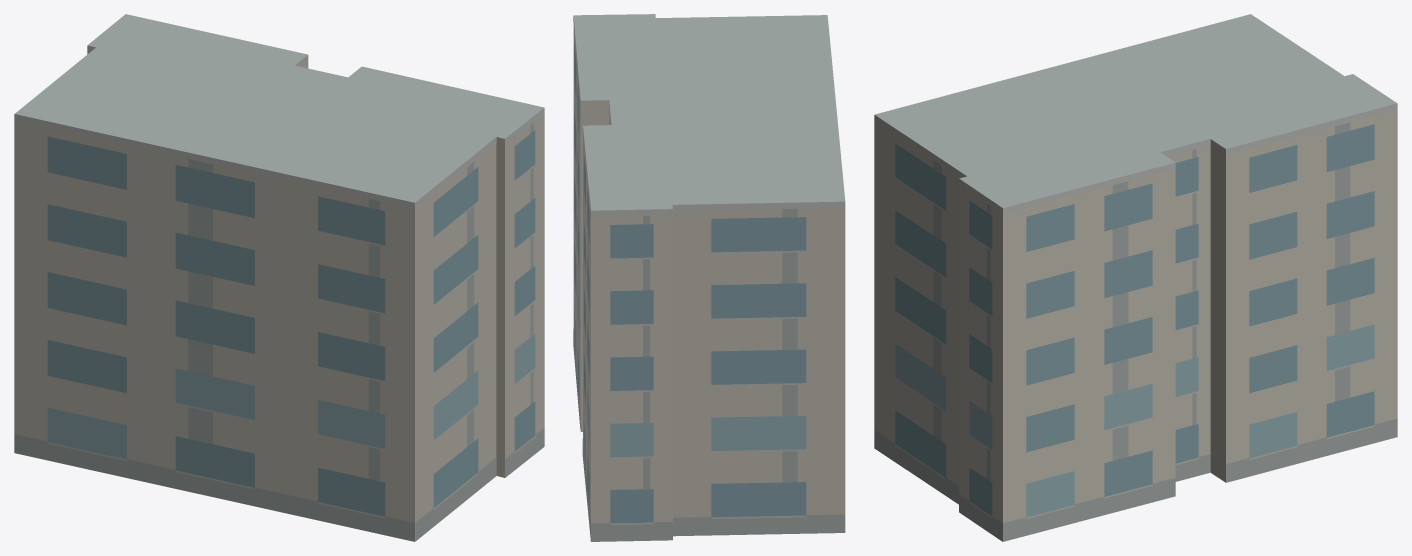
The model's file is survey-upis-32903089.glb.
The picture shows the model from 3 angles, left to right: view 1: azimuth 30°, elevation 25°; view 2: azimuth 150°, elevation 25°; view 3: azimuth 270°, elevation 25°; orthographic projection. The views are drawn at different scales.
Visible parts, largest first — view 1: survey-upis-32903089.tmp; view 2: survey-upis-32903089.tmp; view 3: survey-upis-32903089.tmp.
Part boxes in pixels (left/top/right/bottom): survey-upis-32903089.tmp: left=14, top=14, right=544, bottom=541; survey-upis-32903089.tmp: left=573, top=14, right=845, bottom=541; survey-upis-32903089.tmp: left=874, top=14, right=1397, bottom=541.
Size of the model in its own units: 16.17 by 12.96 by 18.42.
